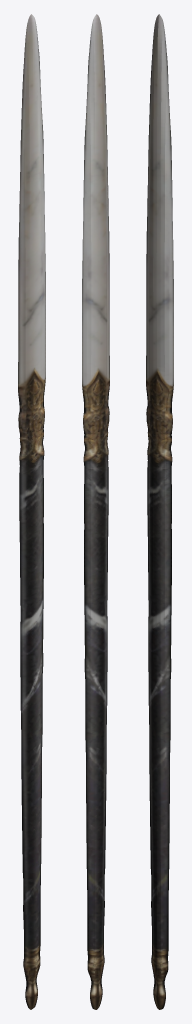
Rendered from marble_spear.glb.
3 renders of one model, left to right at view 1: azimuth 30°, elevation 25°; view 2: azimuth 210°, elevation 25°; view 3: azimuth 330°, elevation 25°, orthographic.
Visible parts, largest first — view 1: Grid; view 2: Grid; view 3: Grid.
Part boxes in pixels (x1,y1,x2,y2): Grid: [18, 14, 45, 1009]; Grid: [82, 14, 109, 1009]; Grid: [146, 14, 173, 1009].
Bounding box in the file's own units: 0.2199 × 7.43 × 0.071.
1 material, 1 textured.
